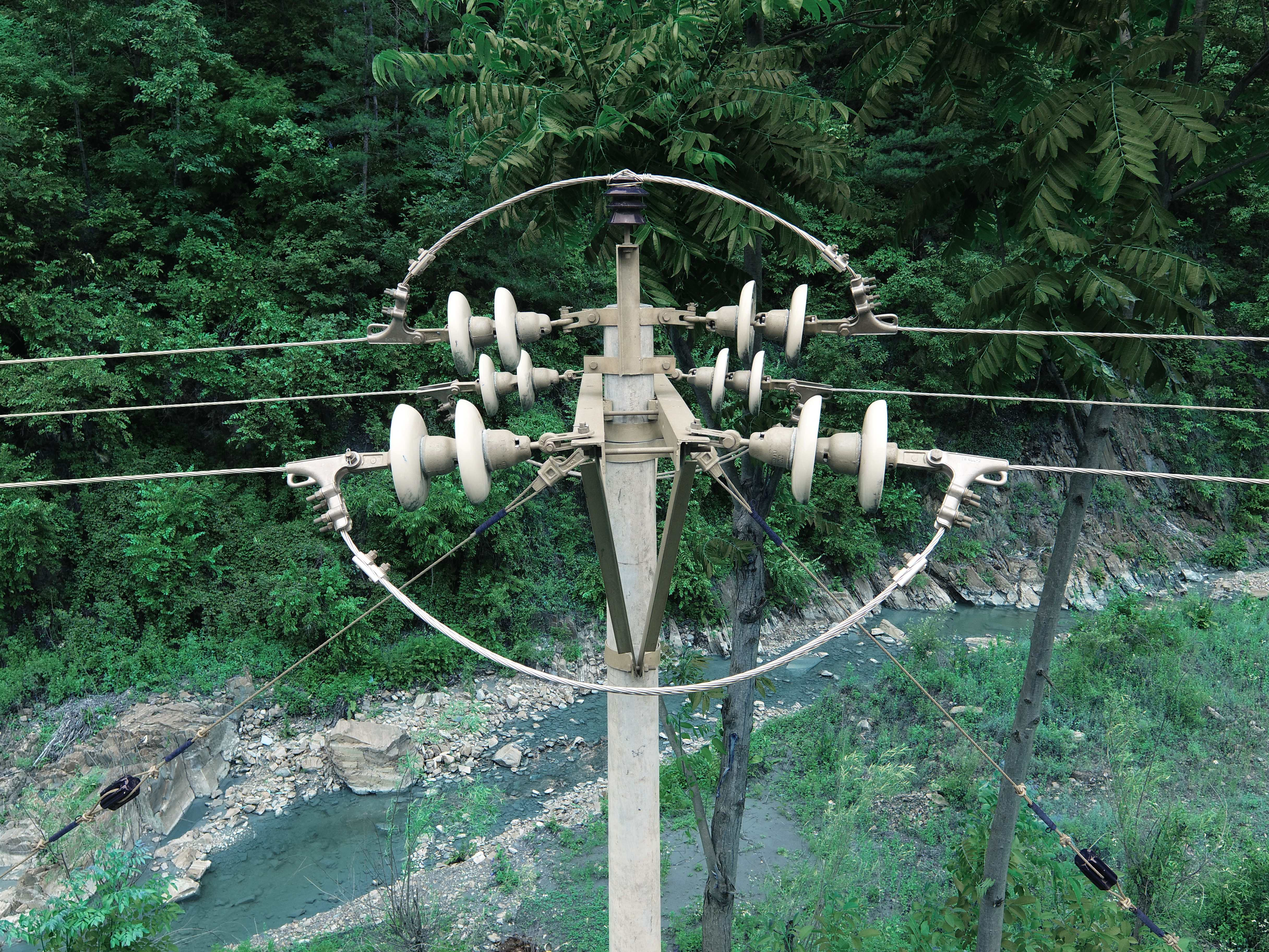severe_soiling_no_discharge_whole: (441, 281, 553, 378), (705, 276, 817, 371), (685, 344, 771, 422), (472, 345, 556, 417)
